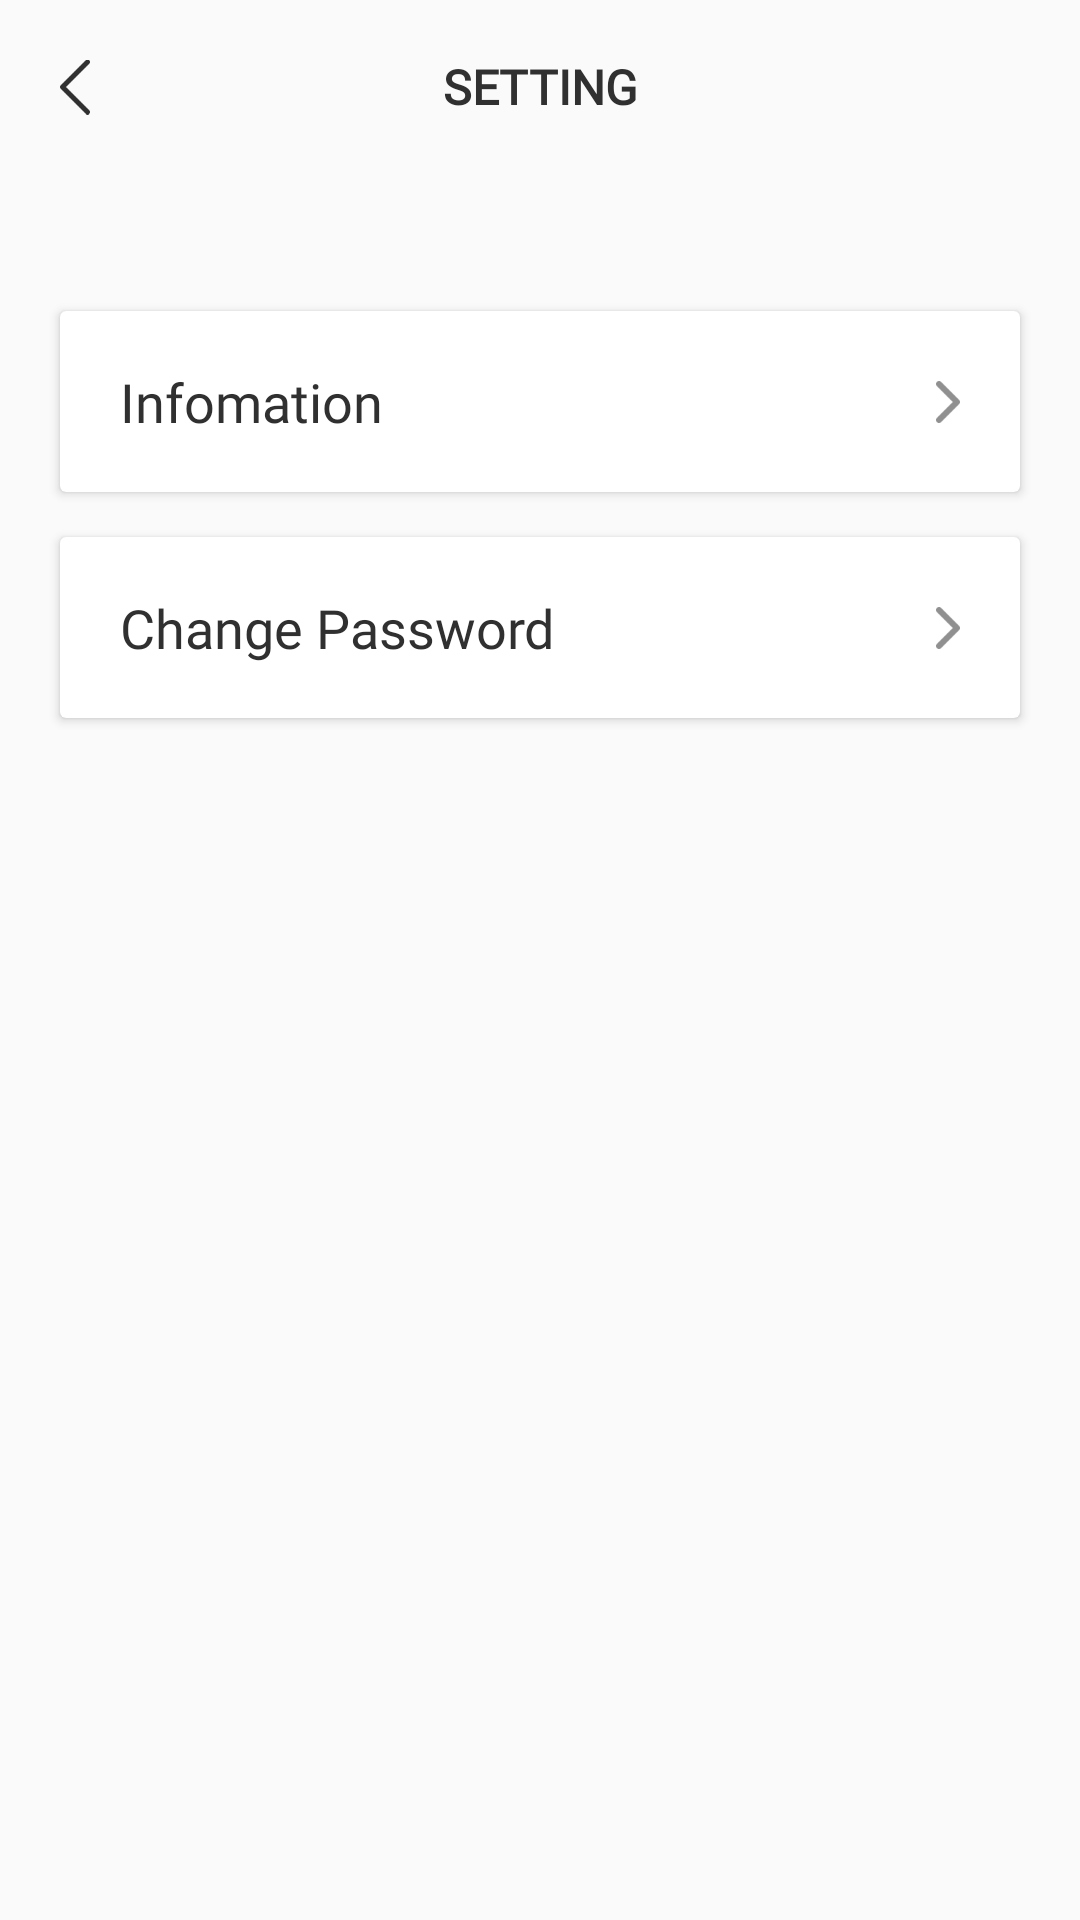

Point at icon controls on the screen. Image size 1080×1920, points as (x,y).
back cart: (75,87)
right: (948,402), (948,628)
